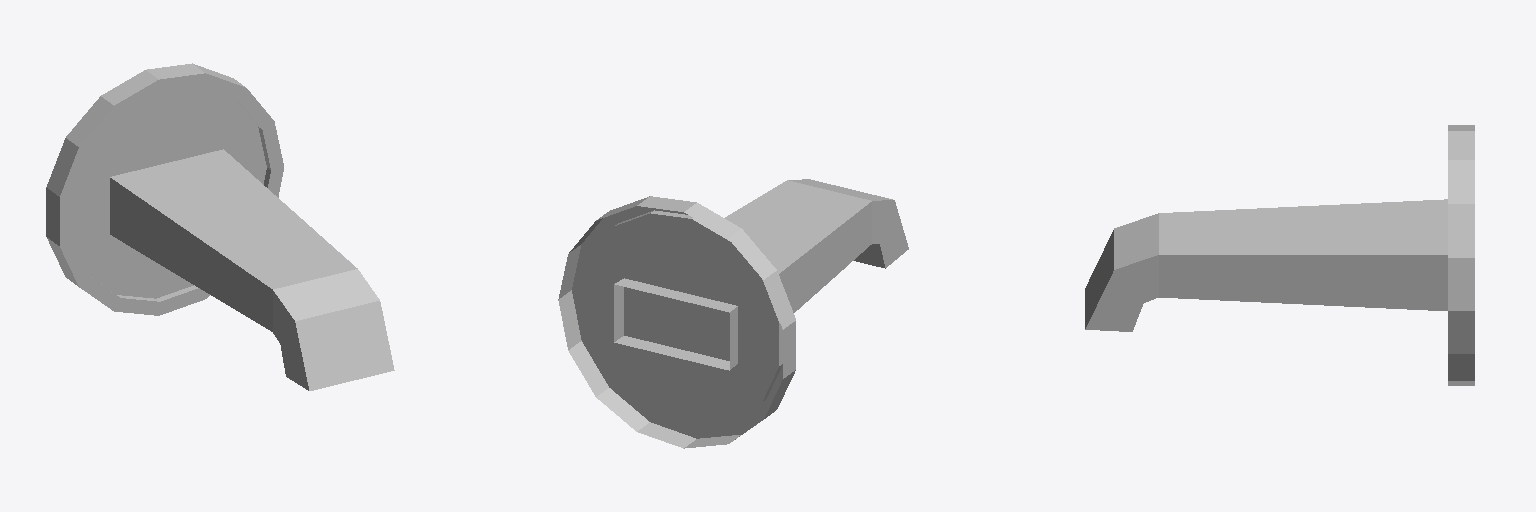
File: bathtub_faucet_4.obj
3 renders of one model, left to right at view 1: azimuth 30°, elevation 25°; view 2: azimuth 150°, elevation 25°; view 3: azimuth 270°, elevation 25°, orthographic.
Bounding box in the file's own units: 2.24 × 2.25 × 3.36.